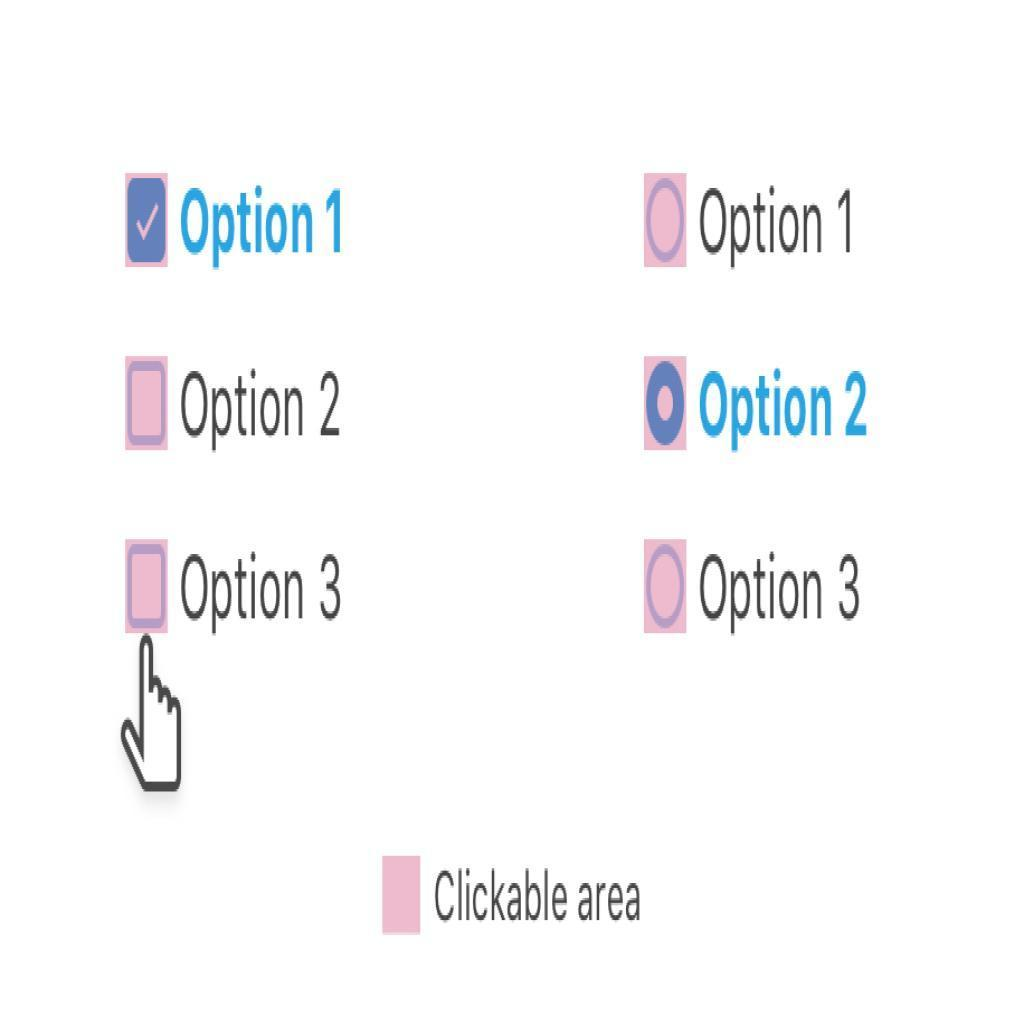checkbox: (126, 177, 170, 275), (125, 541, 168, 636), (129, 359, 168, 451), (381, 856, 423, 937)
label: (697, 364, 875, 458), (694, 545, 865, 641), (177, 181, 349, 272), (177, 365, 350, 454), (178, 547, 346, 638), (430, 864, 648, 930), (700, 180, 858, 270)
radio: (645, 169, 690, 276), (645, 539, 690, 636), (645, 361, 691, 451)
